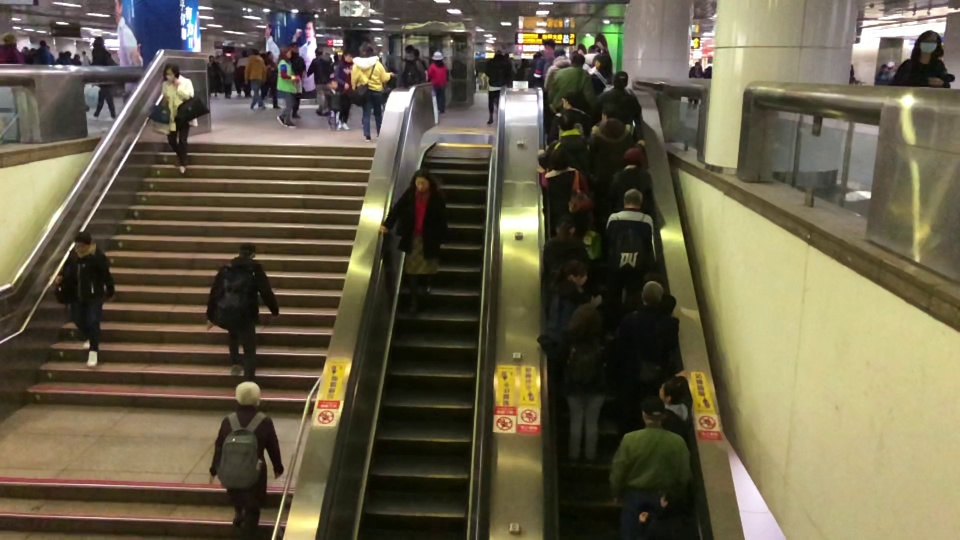person_head: (569, 303, 602, 336), (638, 392, 666, 428), (659, 483, 689, 515), (657, 374, 686, 406), (234, 379, 261, 408), (563, 258, 588, 286), (553, 212, 576, 241), (915, 29, 941, 54), (547, 147, 570, 172), (640, 281, 663, 306), (561, 88, 586, 110), (411, 169, 432, 194), (72, 230, 92, 254), (599, 101, 621, 122), (623, 146, 644, 167), (622, 188, 642, 209), (594, 52, 613, 73), (556, 112, 575, 132), (162, 62, 180, 83), (612, 70, 629, 92), (238, 242, 256, 260), (358, 40, 375, 58), (2, 31, 18, 47), (570, 52, 585, 69), (542, 37, 556, 55), (91, 35, 105, 49), (430, 51, 443, 65), (341, 50, 353, 64), (327, 77, 339, 90), (404, 45, 415, 59), (552, 46, 566, 57), (279, 47, 291, 59), (384, 54, 395, 67), (289, 42, 299, 55), (588, 44, 601, 54), (20, 45, 29, 56), (313, 47, 324, 56), (886, 60, 895, 71), (494, 44, 502, 56), (878, 63, 887, 72), (250, 48, 260, 56), (265, 51, 273, 61), (693, 61, 701, 71), (38, 39, 46, 48), (29, 47, 37, 56), (240, 48, 248, 57), (533, 51, 542, 58), (705, 64, 712, 73), (414, 48, 420, 58), (57, 51, 64, 59), (64, 50, 71, 58), (224, 55, 232, 62), (520, 57, 526, 66), (73, 53, 80, 60), (208, 54, 214, 62), (215, 55, 221, 63), (81, 50, 87, 56)
person_vbox: (595, 280, 683, 440), (535, 302, 616, 469), (607, 392, 694, 540), (207, 379, 286, 540), (204, 242, 279, 382), (379, 169, 448, 318), (54, 230, 116, 368), (602, 188, 657, 343), (539, 212, 593, 316), (536, 147, 593, 236), (587, 101, 645, 188), (545, 257, 602, 342), (350, 40, 396, 142), (159, 62, 198, 174), (887, 29, 955, 88), (604, 146, 656, 220), (537, 112, 593, 176), (547, 52, 600, 119), (638, 483, 699, 540), (588, 70, 642, 126), (546, 88, 595, 145), (86, 35, 117, 122), (657, 374, 693, 444), (483, 44, 512, 125), (275, 47, 299, 128), (307, 47, 331, 117), (334, 50, 354, 130), (424, 50, 448, 114), (243, 47, 266, 110), (323, 77, 349, 132), (289, 42, 306, 119), (543, 46, 571, 91), (259, 51, 280, 110), (533, 37, 556, 86), (399, 44, 425, 87), (591, 52, 613, 97), (0, 30, 26, 64), (235, 48, 252, 98), (686, 61, 703, 111), (208, 55, 225, 97), (220, 55, 235, 99), (527, 51, 544, 87), (34, 39, 54, 64), (384, 54, 398, 89), (513, 57, 530, 81), (583, 44, 601, 66), (881, 60, 896, 84), (414, 48, 427, 71), (874, 63, 887, 85), (20, 45, 33, 64), (81, 50, 91, 66), (702, 64, 712, 79), (64, 50, 74, 64), (29, 47, 37, 64), (71, 53, 82, 65), (54, 51, 64, 64), (207, 54, 214, 67)
